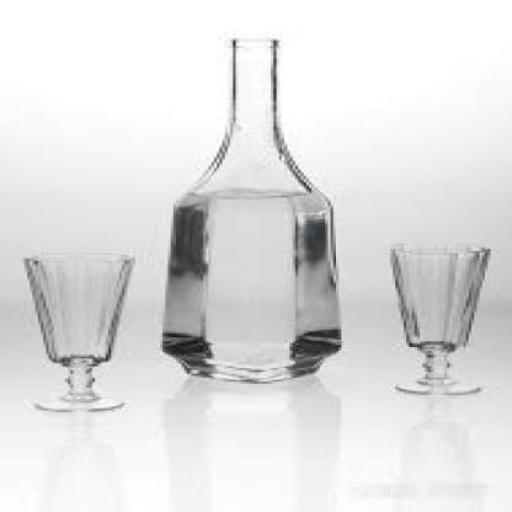glass: (159, 36, 339, 382), (19, 251, 130, 409), (390, 242, 488, 394)
